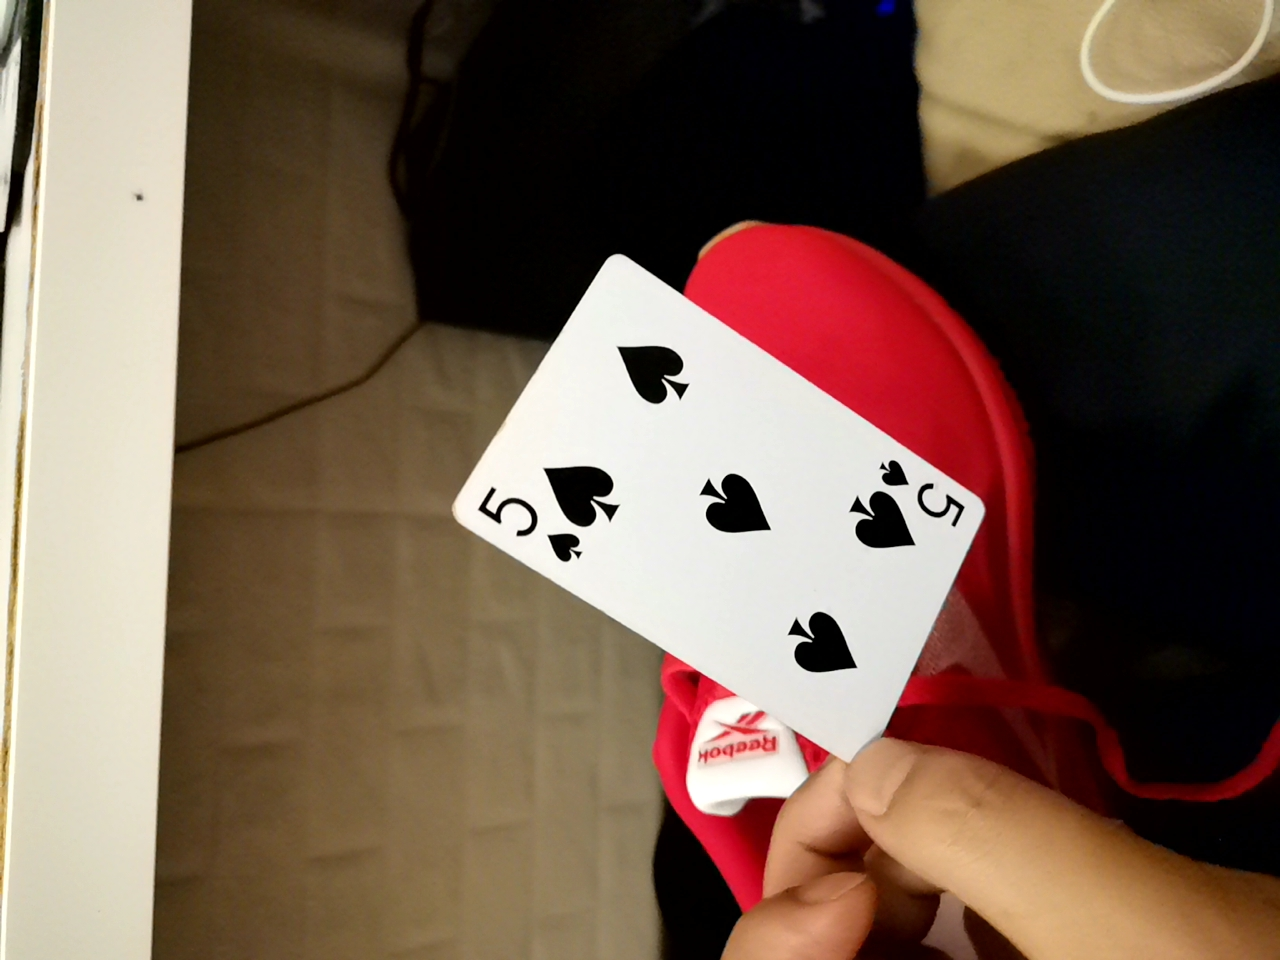ht 5: (426, 259, 1008, 808)
